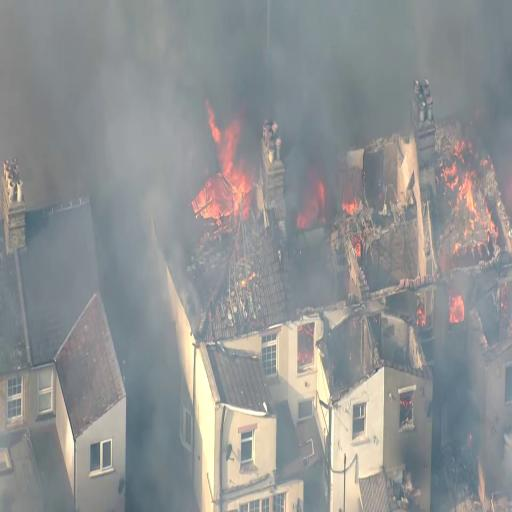fire: (188, 110, 252, 234), (438, 142, 492, 238)
